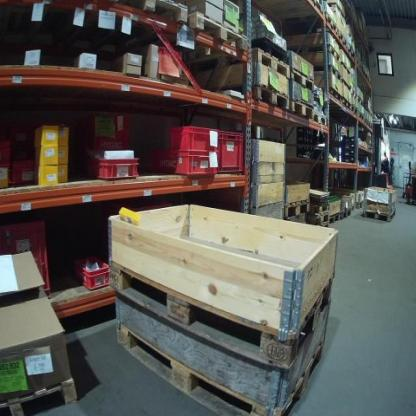pallet: (109, 253, 333, 370), (117, 315, 328, 412), (1, 368, 80, 414), (191, 47, 292, 82), (190, 10, 250, 65), (207, 84, 290, 114), (119, 2, 189, 31), (289, 42, 341, 64), (284, 195, 312, 218), (310, 66, 343, 84), (362, 208, 398, 224), (292, 67, 316, 90), (290, 100, 313, 123), (318, 16, 339, 37), (296, 1, 324, 16), (305, 203, 330, 219), (307, 212, 330, 228), (323, 89, 344, 106), (334, 30, 349, 51), (325, 213, 341, 231), (313, 110, 328, 128), (337, 208, 352, 222), (342, 77, 353, 93), (339, 99, 353, 111), (341, 60, 349, 72), (350, 87, 358, 99), (357, 97, 364, 107), (357, 117, 365, 125), (351, 110, 357, 118)
pallet_truck: (373, 122, 395, 188), (398, 155, 416, 205)
small_load_carrier: (3, 216, 52, 299), (81, 113, 139, 165), (145, 150, 219, 181), (67, 246, 111, 291), (84, 150, 141, 181), (167, 124, 221, 154), (218, 131, 243, 172), (11, 155, 41, 184), (1, 137, 14, 168)
